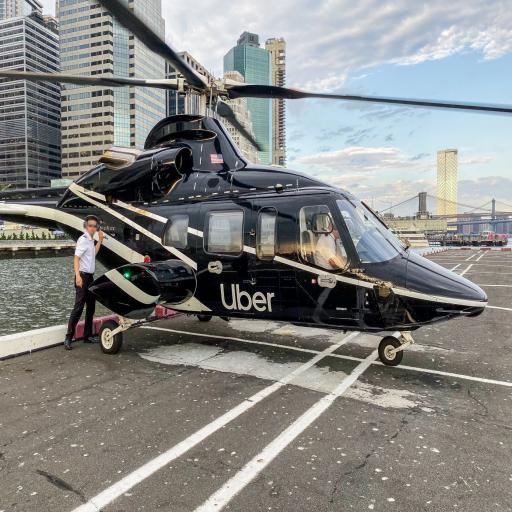helicopter: (1, 44, 512, 372)
